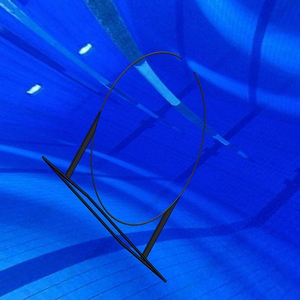circle: (42, 50, 208, 284)
